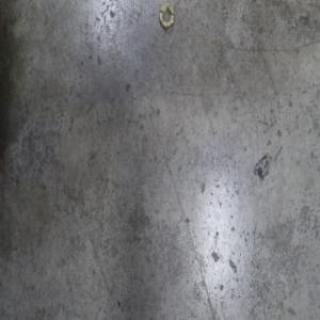Nuttrack_idkeyframe: (158, 0, 175, 31)
